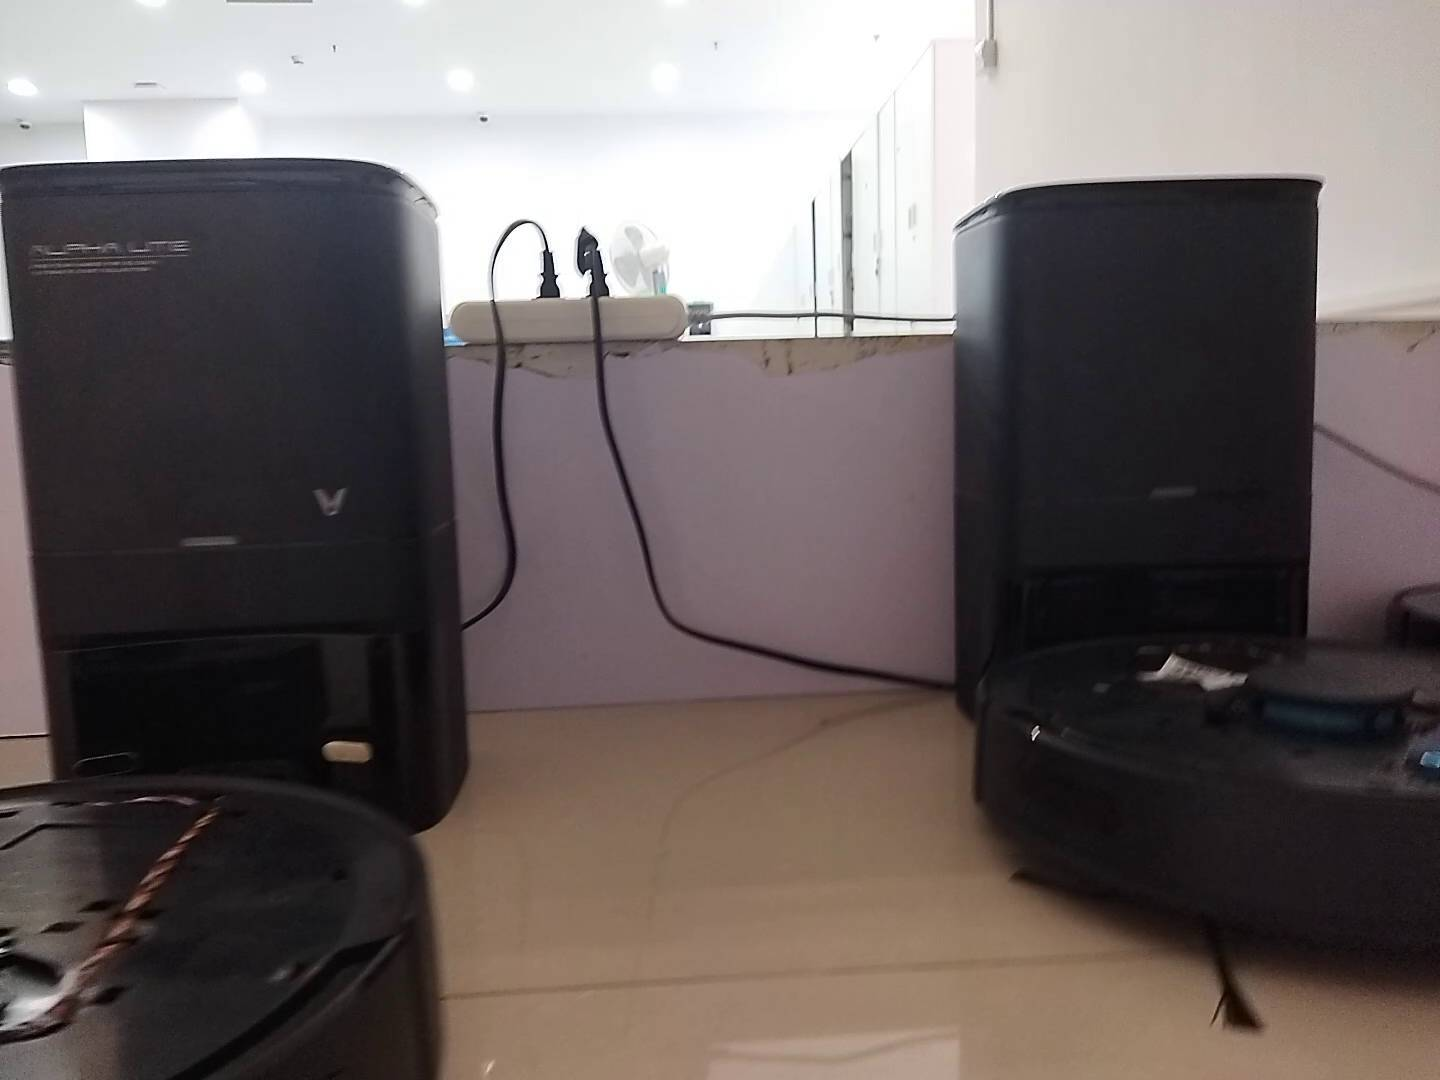dust collecting barrel: (1, 154, 469, 838), (955, 174, 1327, 728)
